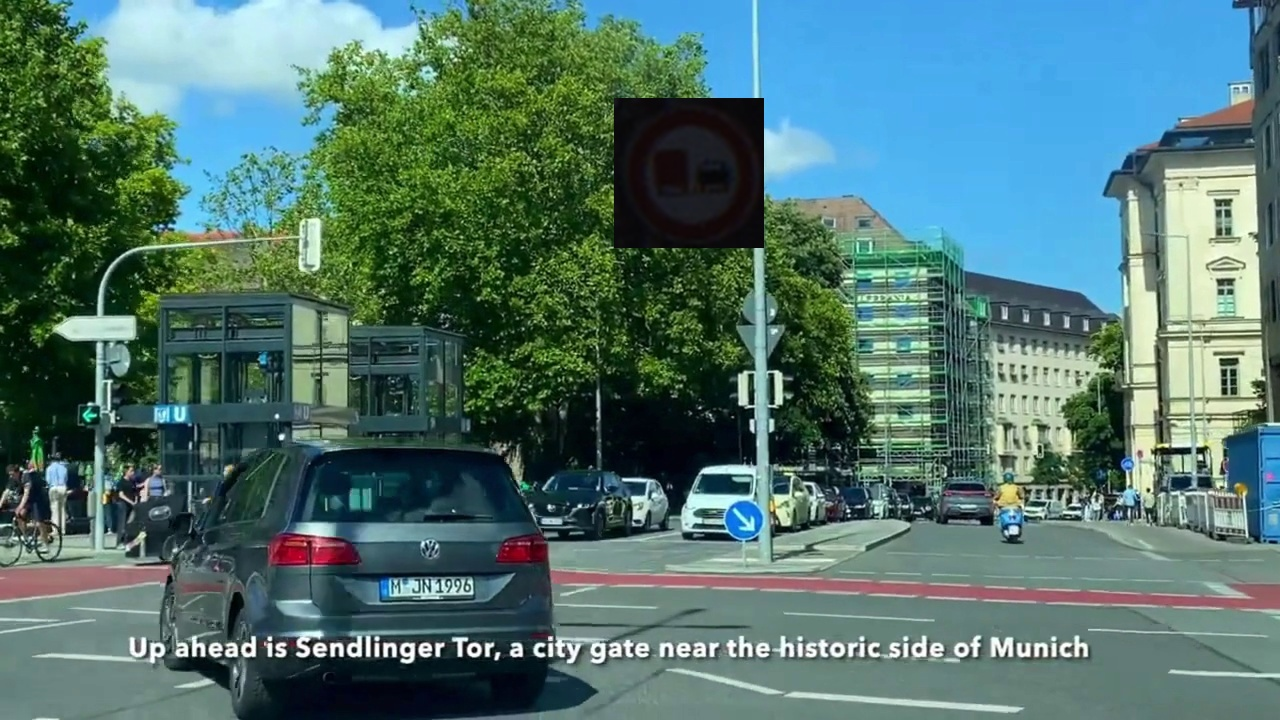No pass >3.5t: (614, 98, 764, 248)
